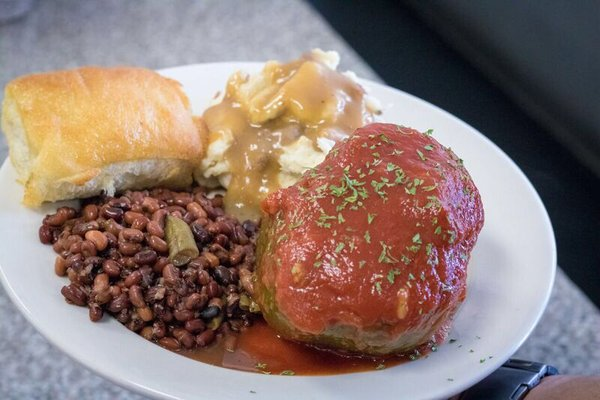soup: (1, 64, 204, 209)
